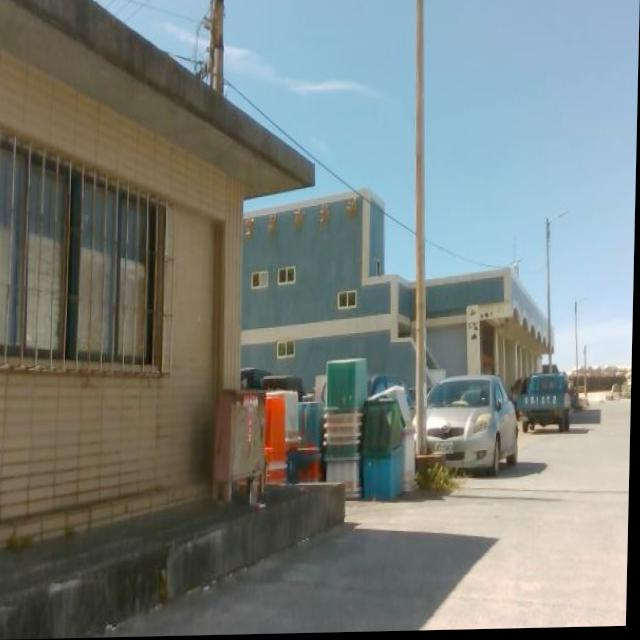pollute: (268, 357, 420, 506)
